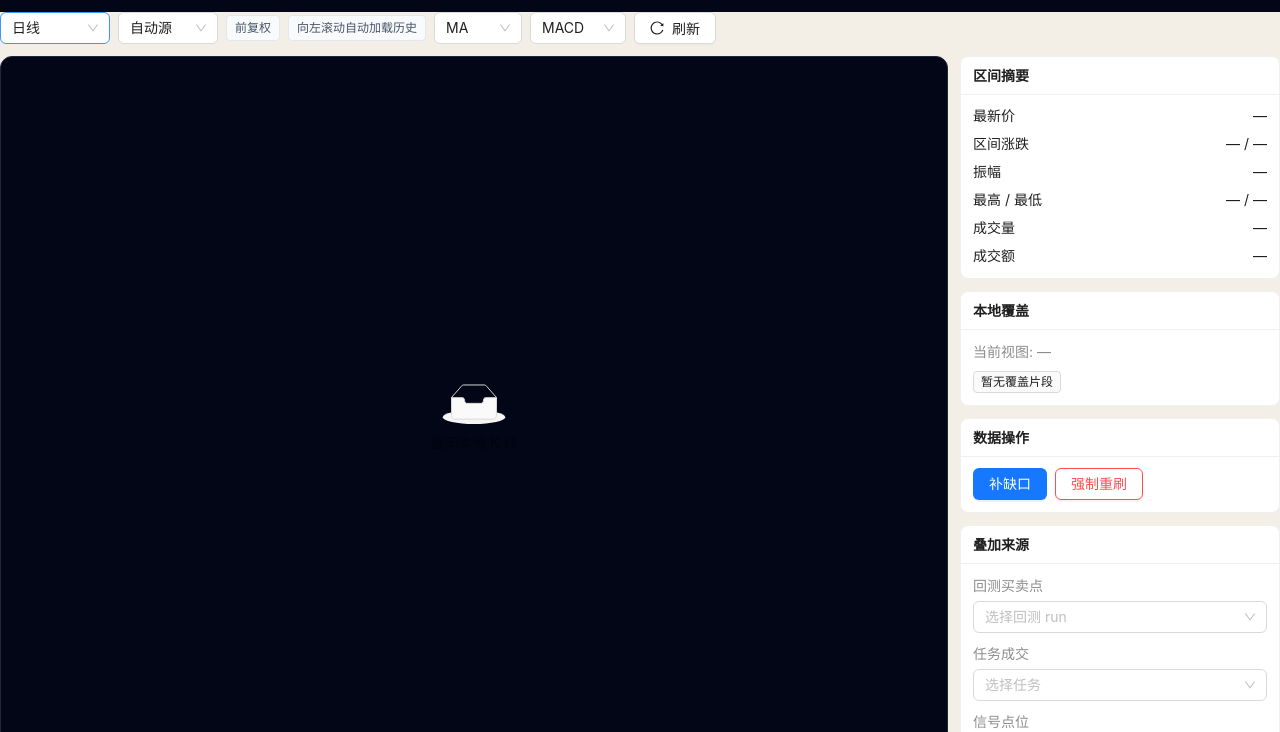
Test case: LocalMarketKlinePanel › submits fill-gap sync and polls an async job to completion
What coordinates should you click on to do the following:
click the button "补缺口"
I would click on:
 (1010, 484)
Its box is [973,468,1047,500].
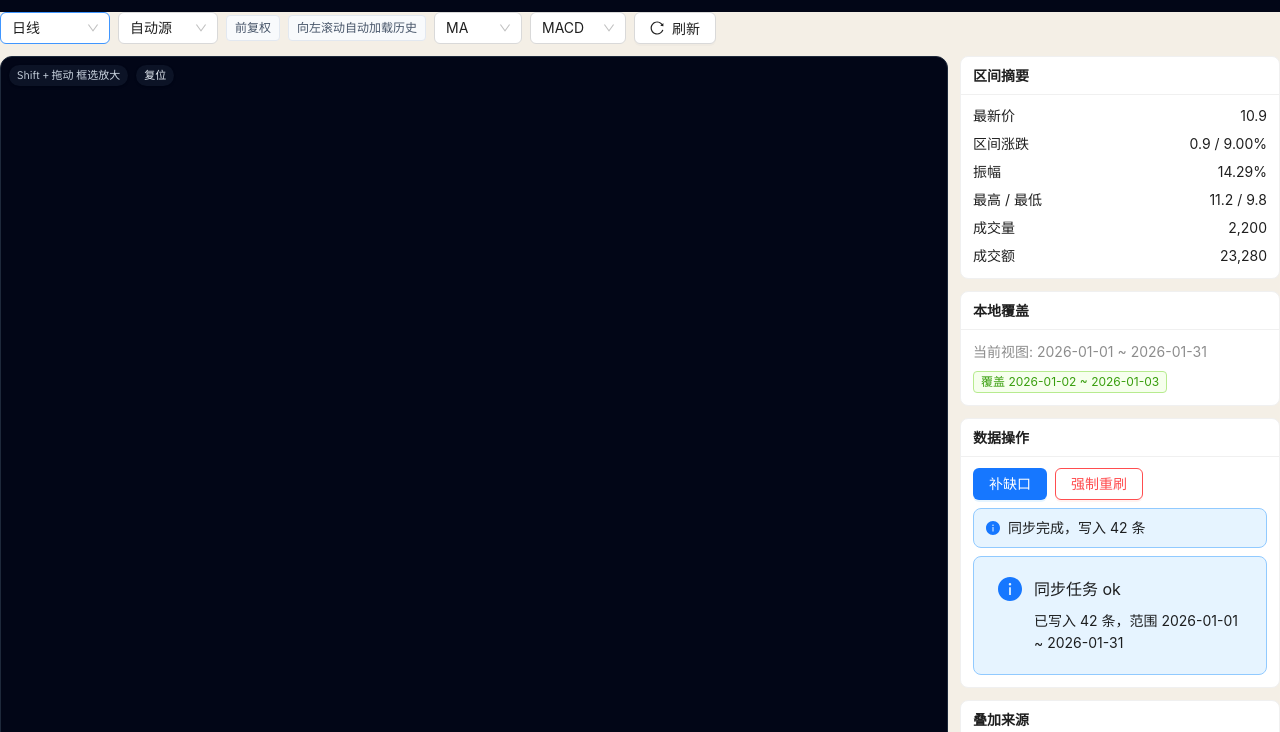
expect the text "同步完成，写入 42 条" is shown: met, box [1008,519,1146,536]
